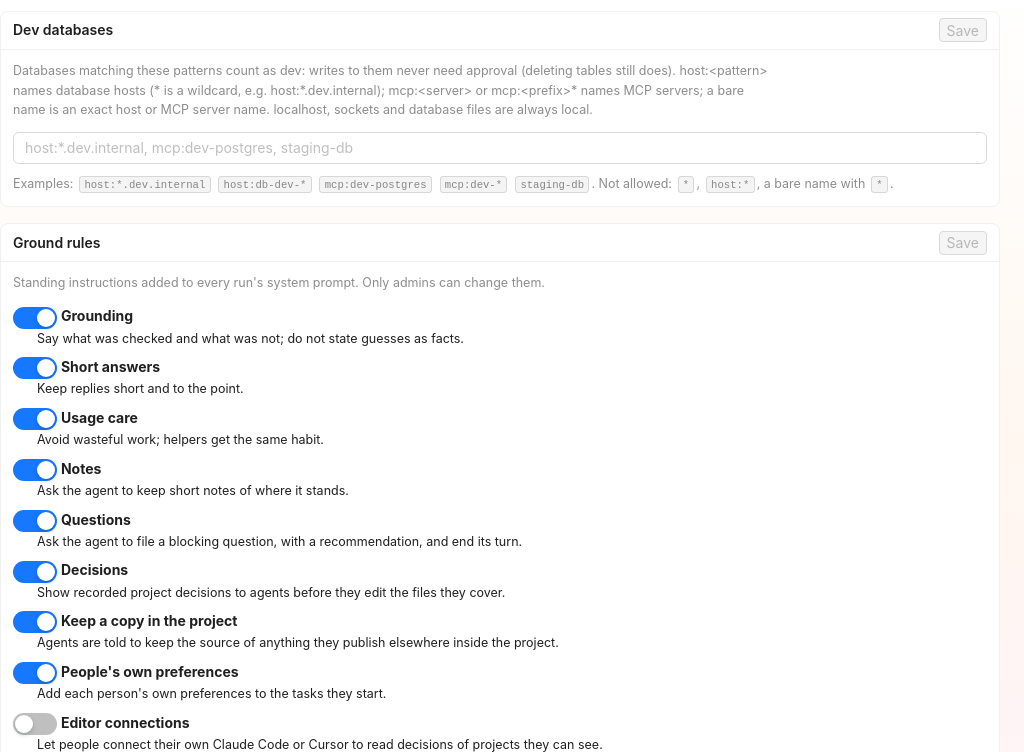
Test case: OrgGuardView (Settings → Agent guard) › saves the ground rules with all nine keys and shows the 400
(page scrolled)
Step 1. Click the switch named "Short answers" → (35, 368), box [13,357,57,379]
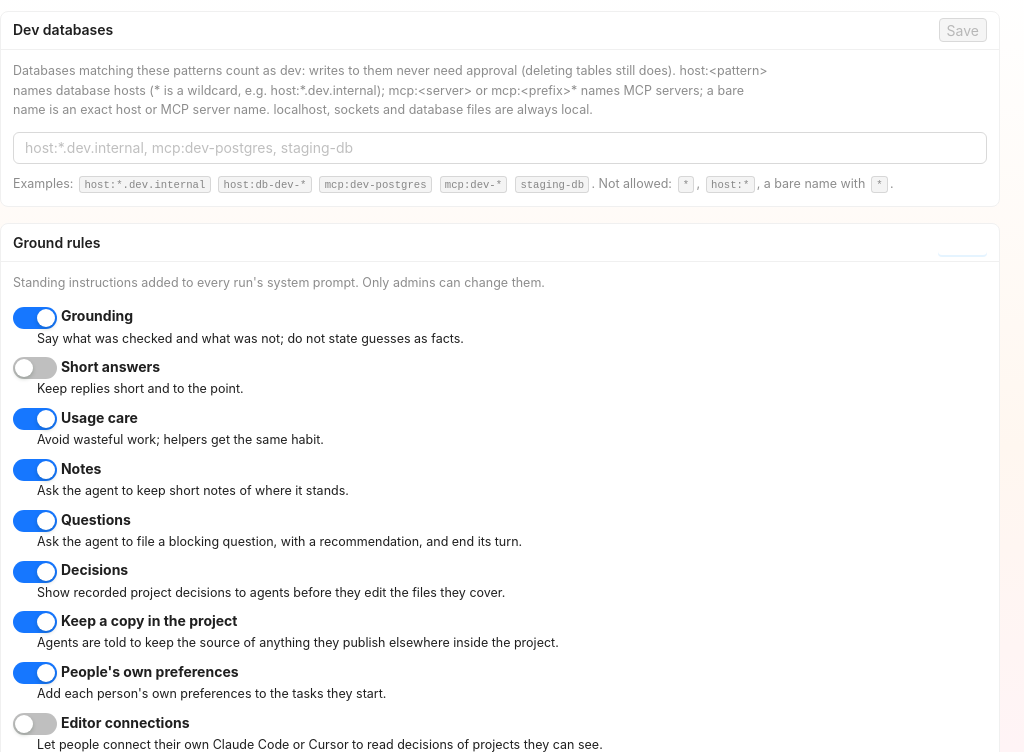
Step 2. Click the button "Save" in the row of "Ground rules" → (962, 243), box [938,231,987,255]
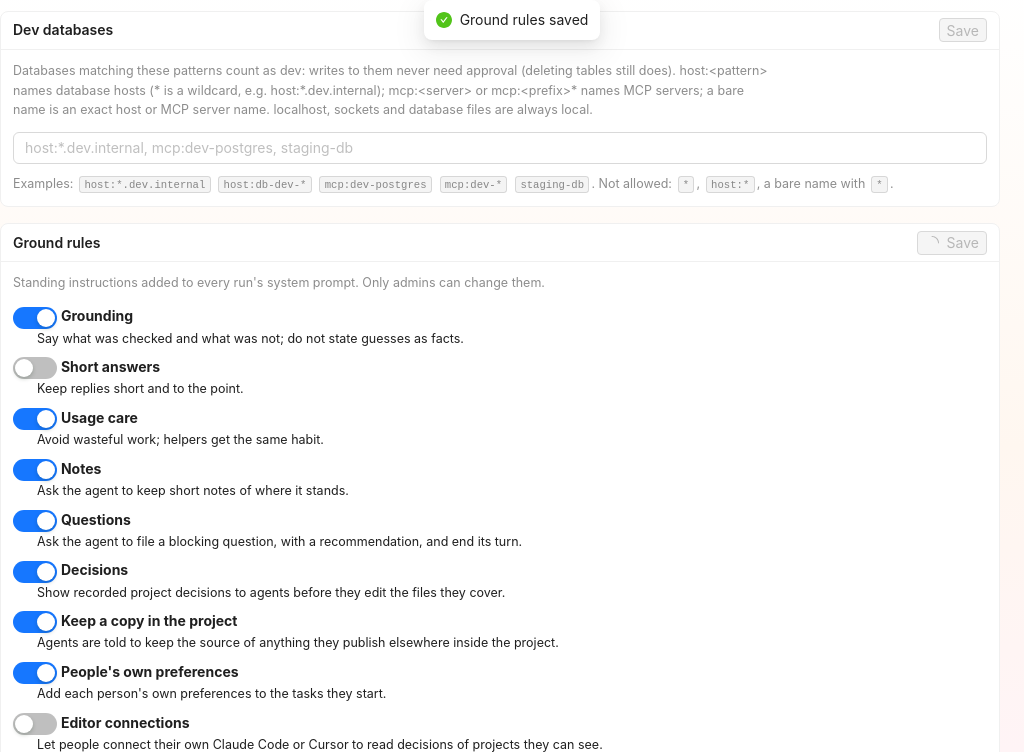
Step 3. Click the switch named "Notes" → (35, 470), box [13,459,57,481]
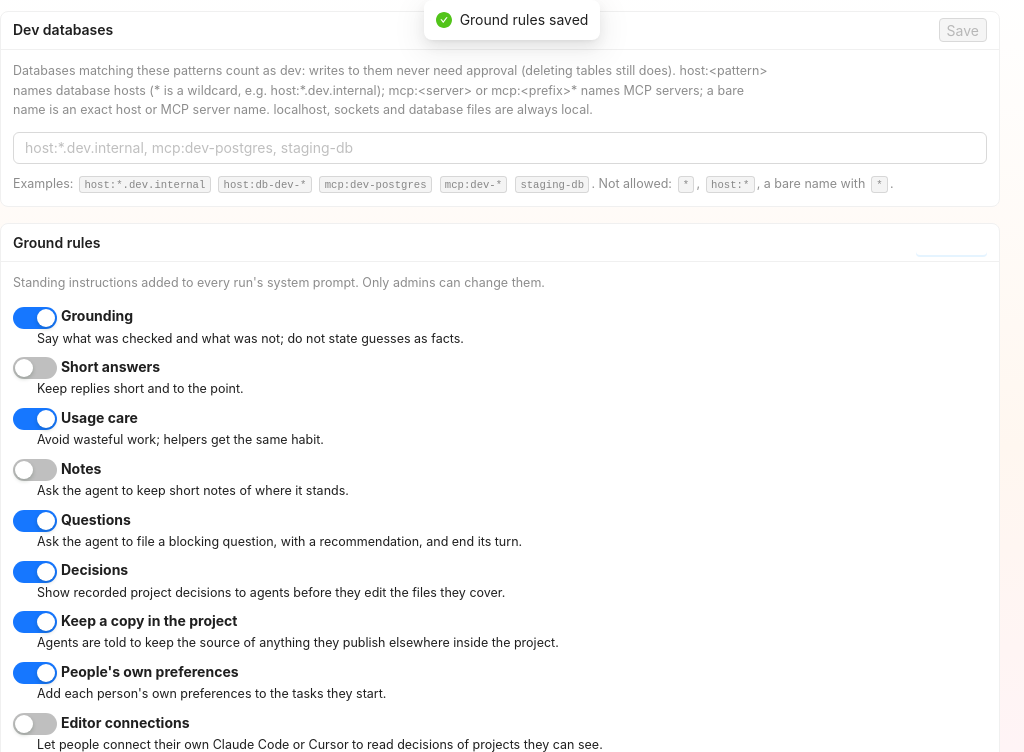
Step 4. Click the 2nd button "Save" → (951, 243), box [916,231,987,255]
(page scrolled)
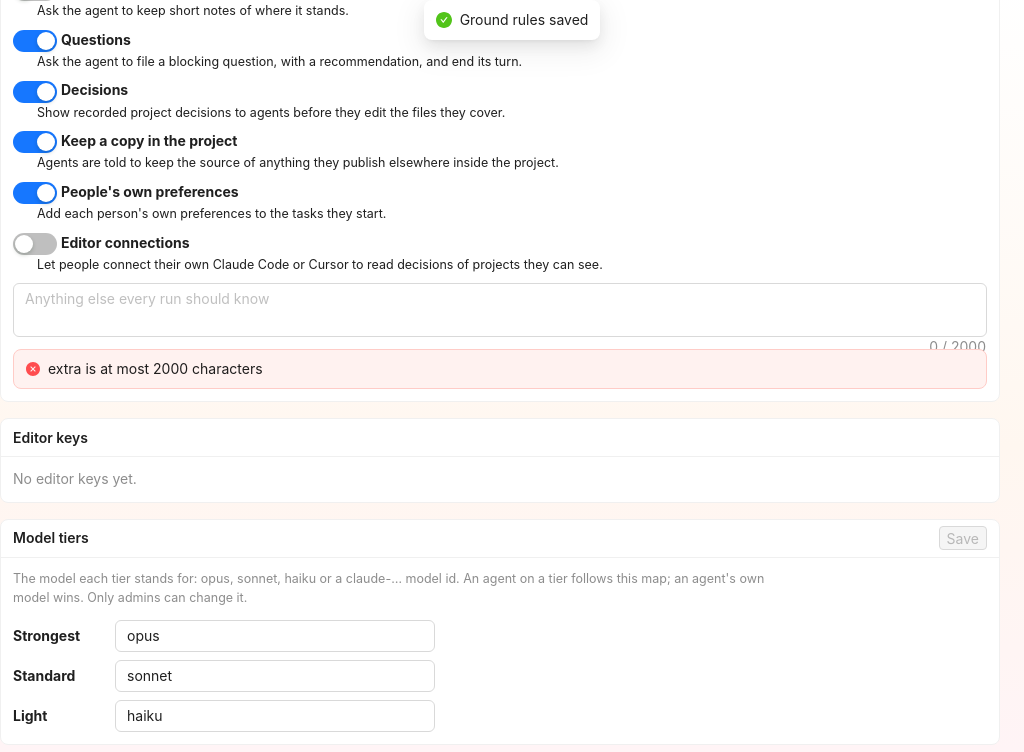
Expected: the message "extra is at most 2000 characters" is shown, [13,349,987,389]
